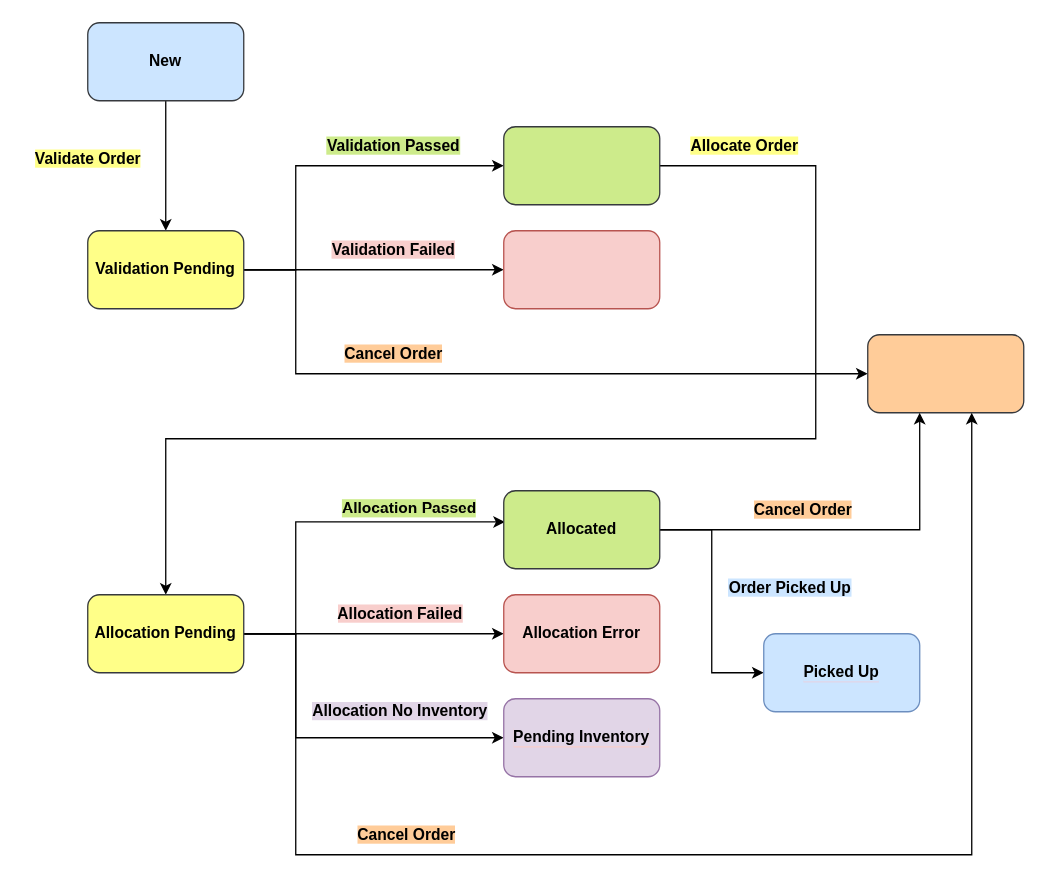
Some shapes in this 1047 by 888 pixel diagram are drawn without their labels. Each missing label, with the centre of its shape:
Canceled: the point at 945,373
Validated: the point at 581,165
Validation Error: the point at 581,269
